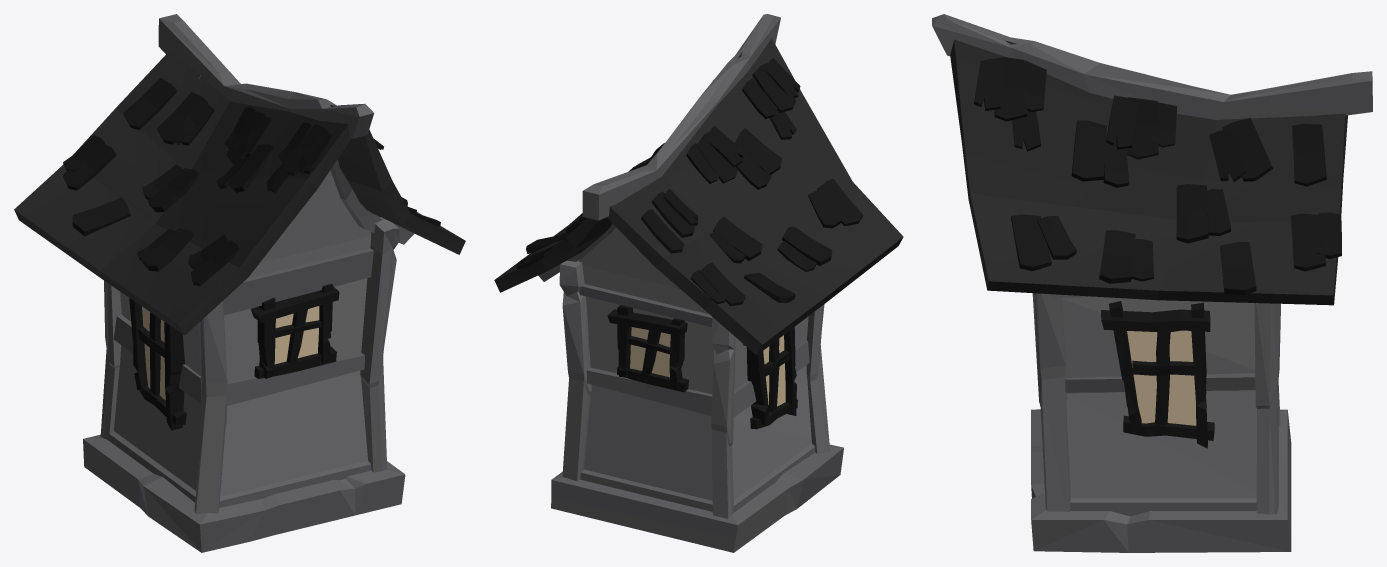
The model's file is WF_LP_HT_Build_HouseRoom.005.fbx.
The picture shows the model from 3 angles, left to right: view 1: azimuth 30°, elevation 25°; view 2: azimuth 150°, elevation 25°; view 3: azimuth 270°, elevation 25°; orthographic projection. The views are drawn at different scales.
Parts seen in each view (by area): view 1: WF_LP_HT_Build_HouseRoom.005; view 2: WF_LP_HT_Build_HouseRoom.005; view 3: WF_LP_HT_Build_HouseRoom.005.
Part boxes in pixels (<box>): WF_LP_HT_Build_HouseRoom.005: <box>14,14,465,552</box>; WF_LP_HT_Build_HouseRoom.005: <box>494,14,903,552</box>; WF_LP_HT_Build_HouseRoom.005: <box>932,14,1372,552</box>.
Bounding box in the file's own units: 4.39 × 6.25 × 5.08.
